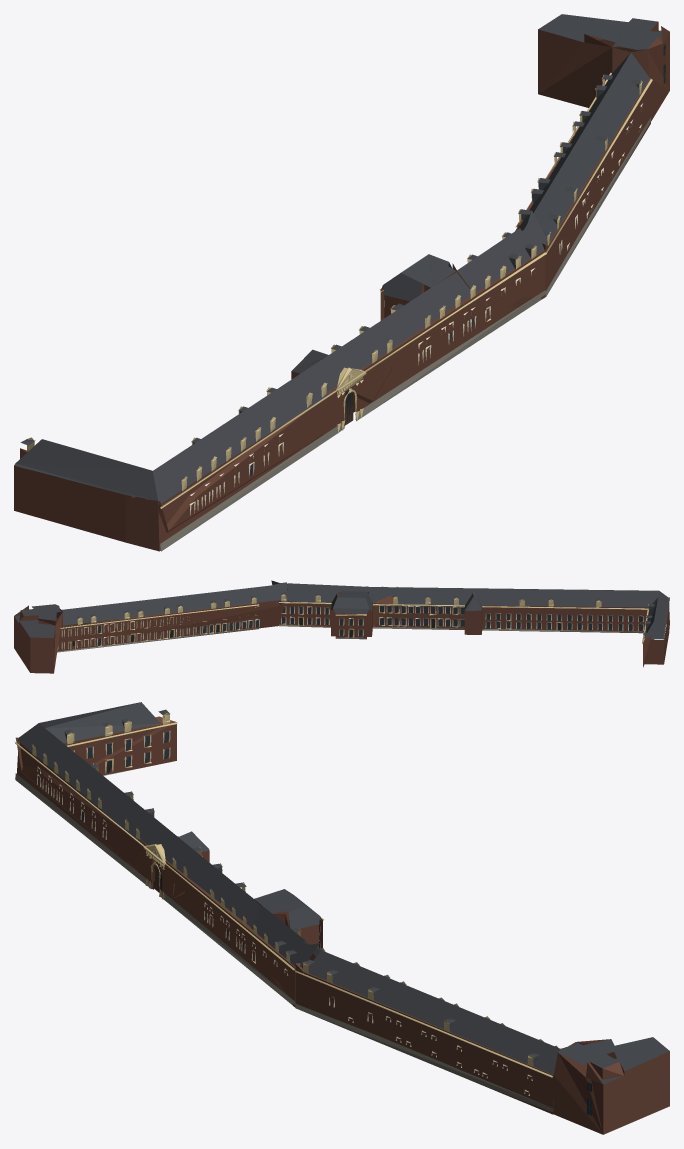
The model's file is marinekazerne-kattenburgerstraat.lod1.glb.
3 renders of one model, top to bottom at view 1: azimuth 30°, elevation 25°; view 2: azimuth 150°, elevation 25°; view 3: azimuth 270°, elevation 25°, orthographic. The views are drawn at different scales.
Parts seen in each view (by area): view 1: marinekazerne-kattenburgerstraat; view 2: marinekazerne-kattenburgerstraat; view 3: marinekazerne-kattenburgerstraat.
Boxes of the visible parts, box(x1,y1,x2,y2) form: marinekazerne-kattenburgerstraat: box(14, 14, 669, 551); marinekazerne-kattenburgerstraat: box(14, 580, 669, 673); marinekazerne-kattenburgerstraat: box(14, 702, 669, 1134).
Bounding box in the file's own units: 157 × 12.47 × 114.
